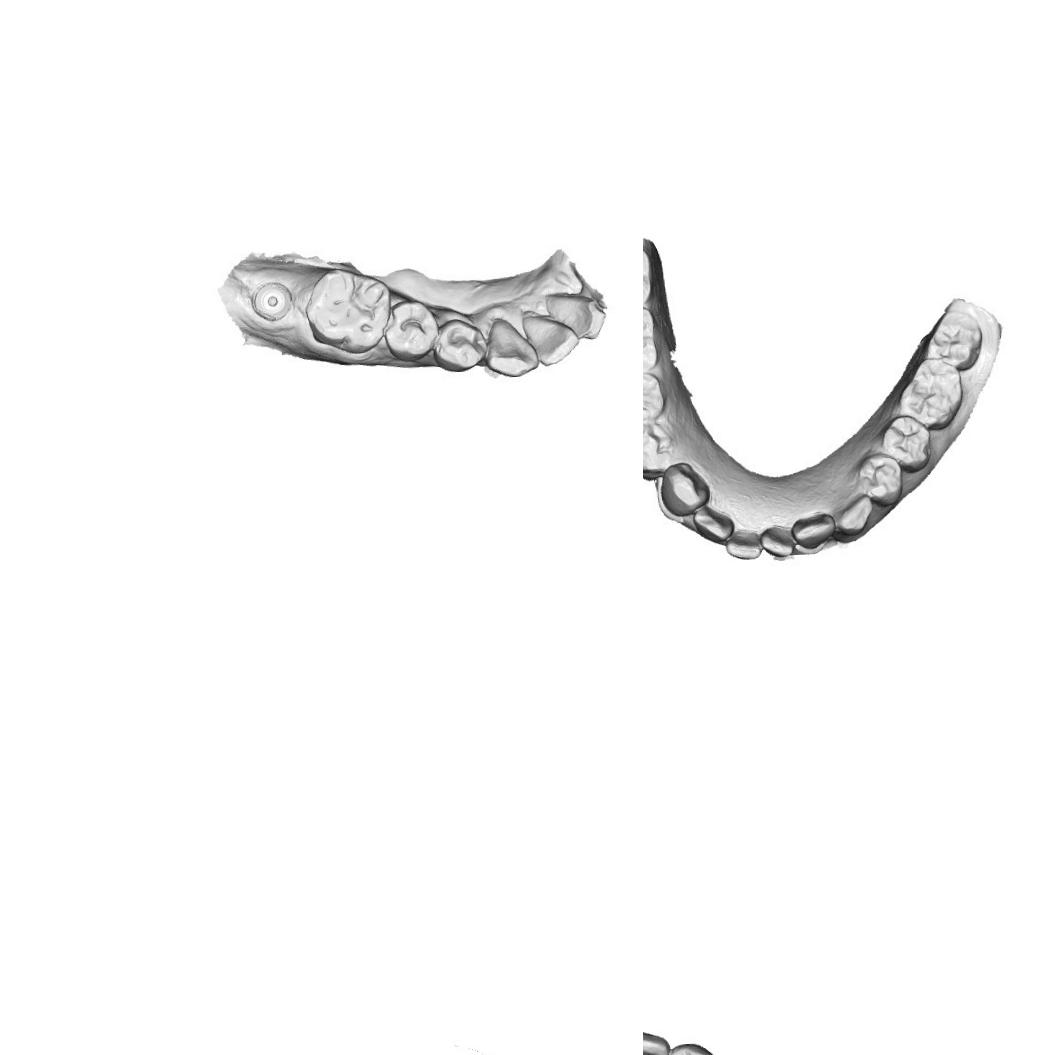canine: (482, 314, 538, 382), (657, 458, 712, 518), (832, 492, 876, 538), (662, 1036, 725, 1055)
implant: (247, 274, 294, 328)
incisor: (548, 288, 606, 345), (525, 308, 580, 366), (690, 503, 736, 545), (788, 510, 836, 550), (721, 526, 765, 562), (756, 521, 796, 558), (643, 1029, 666, 1055)
molar: (301, 262, 394, 356), (894, 355, 966, 432), (922, 307, 986, 373), (643, 305, 660, 377)
premolar: (379, 296, 437, 363), (431, 314, 488, 374), (880, 412, 932, 473), (854, 451, 905, 508), (643, 419, 681, 478), (643, 369, 666, 426)
